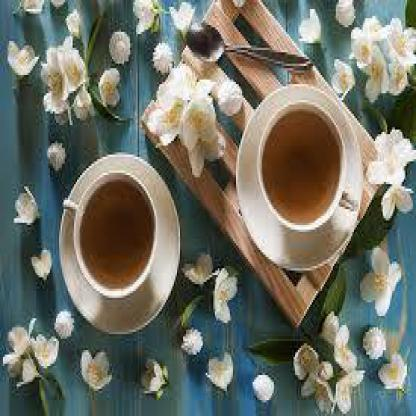Melati: (302, 10, 416, 99), (145, 60, 242, 156), (31, 26, 130, 119), (10, 304, 71, 404), (366, 260, 411, 388), (367, 124, 411, 224), (296, 326, 352, 403)
